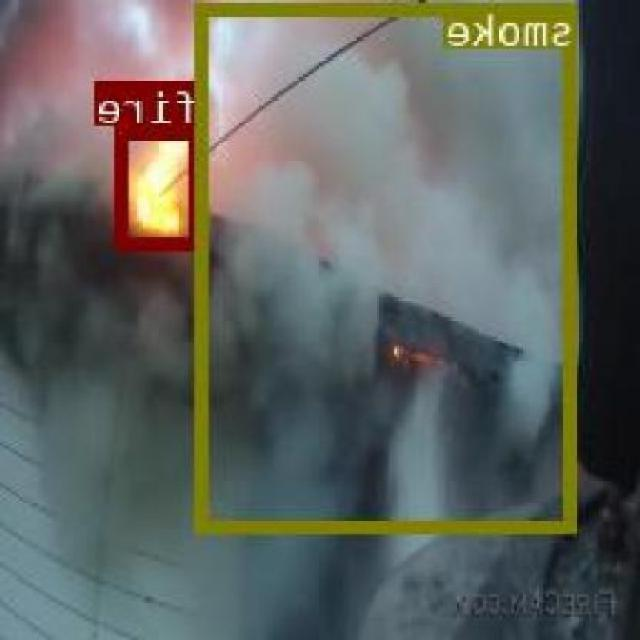Fire: (117, 126, 205, 247)
Smoke: (200, 2, 578, 530)
